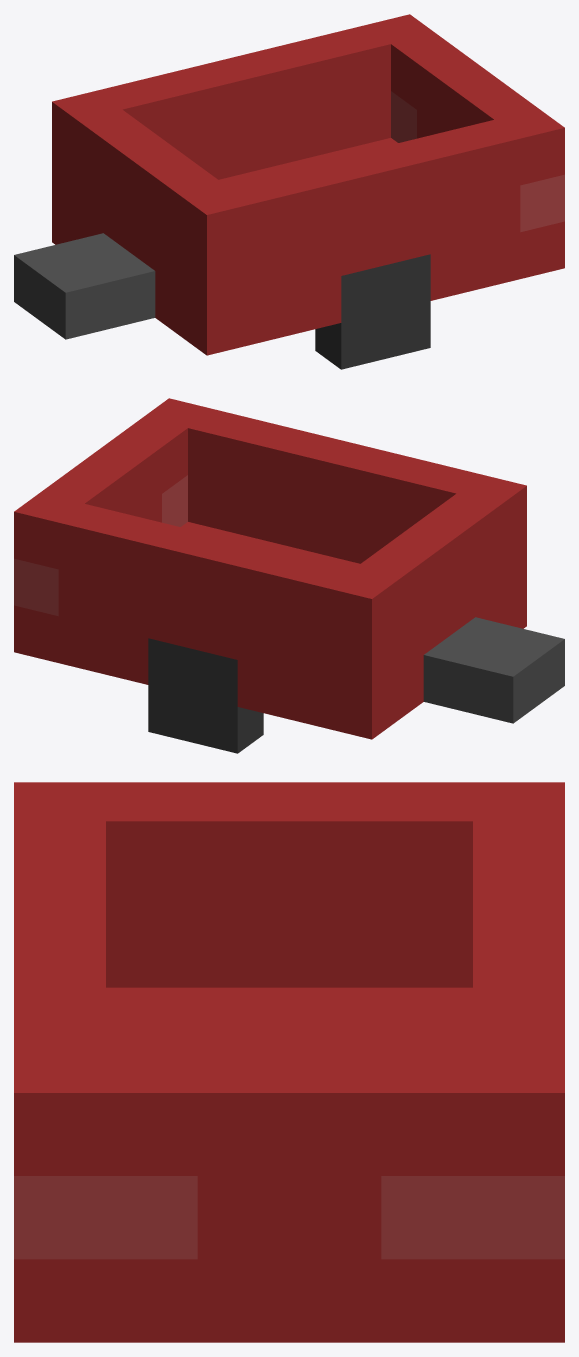
File: car-trailer-v1-red.gltf
3 renders of one model, top to bottom at view 1: azimuth 30°, elevation 25°; view 2: azimuth 150°, elevation 25°; view 3: azimuth 270°, elevation 25°, orthographic. The views are drawn at different scales.
Visible parts, largest first — view 1: model, wheels; view 2: model, wheels; view 3: model.
Part boxes in pixels (x1=…): model: x1=14, y1=14, x2=564, y2=355; wheels: x1=315, y1=254, x2=430, y2=369; model: x1=14, y1=398, x2=564, y2=739; wheels: x1=148, y1=638, x2=263, y2=753; model: x1=14, y1=782, x2=564, y2=1342.
Size of the model in its own units: 1 by 0.4 by 0.6.
Materials: 2 (2 with a texture image).
